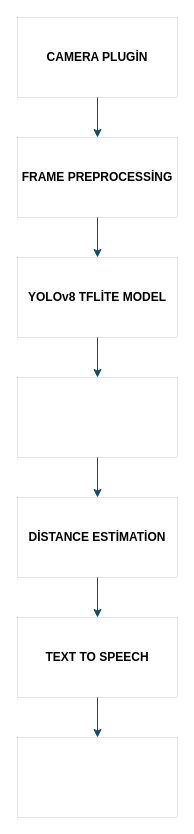
The diagram is 194 pixels wide and 834 high, and some of its shapes have lost their labels. Each missing label, with the box of its shape:
POST PROCESSİNG: (17, 377, 177, 457)
USER: (17, 737, 177, 817)
